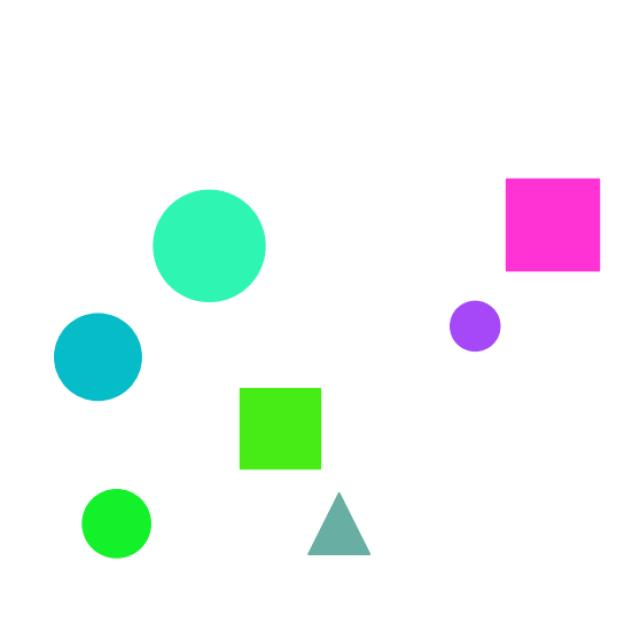Circle: (43, 299, 181, 422), (145, 176, 271, 305), (63, 481, 171, 567), (437, 293, 522, 372)
Triangle: (294, 484, 396, 568)
square: (489, 169, 612, 285), (220, 376, 352, 479)
